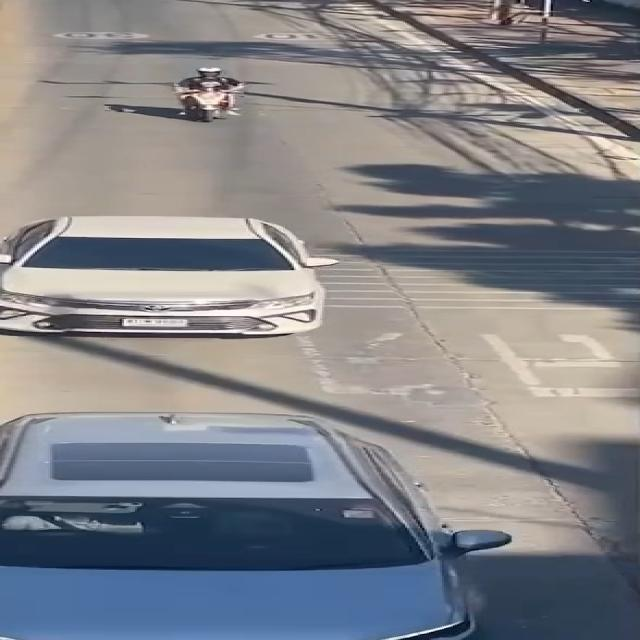car: (0, 396, 535, 640), (0, 206, 355, 350)
